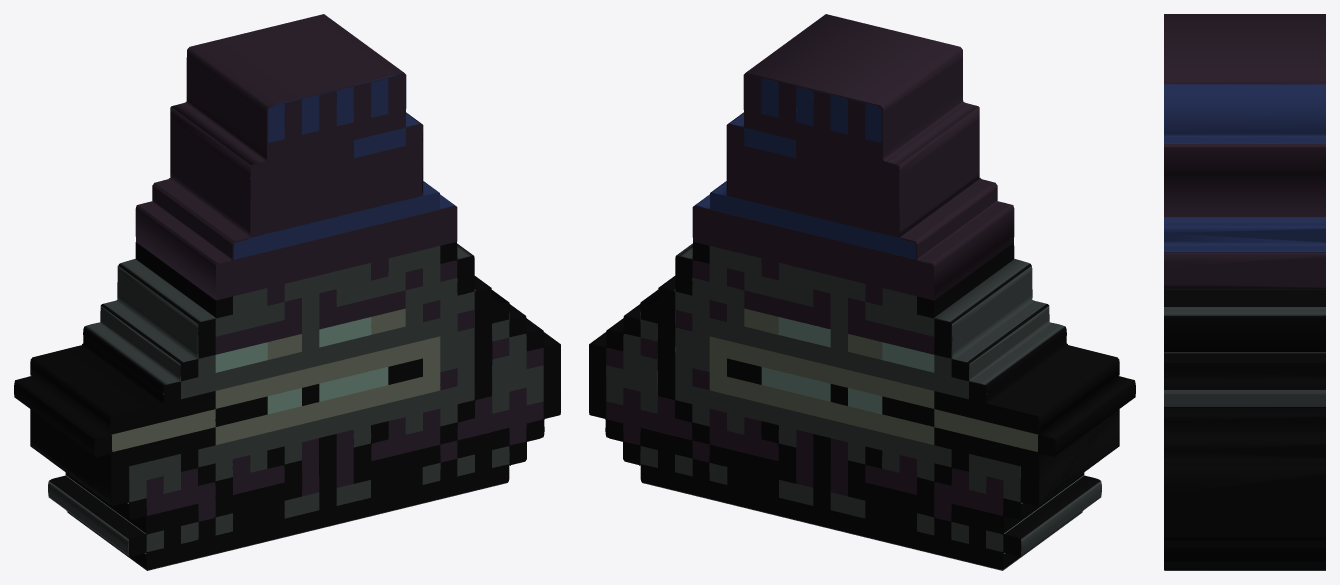
Rendered from Toadz_526.glb.
3 views of the same model, side by side, from view 1: azimuth 30°, elevation 25°; view 2: azimuth 150°, elevation 25°; view 3: azimuth 270°, elevation 25° (orthographic).
Visible parts, largest first — view 1: Curve; view 2: Curve; view 3: Curve.
Boxes of the visible parts, bbox=[...] form: Curve: bbox=[14, 14, 560, 570]; Curve: bbox=[589, 14, 1135, 570]; Curve: bbox=[1164, 14, 1325, 570].
Size of the model in its own units: 3.36 by 3 by 1.
